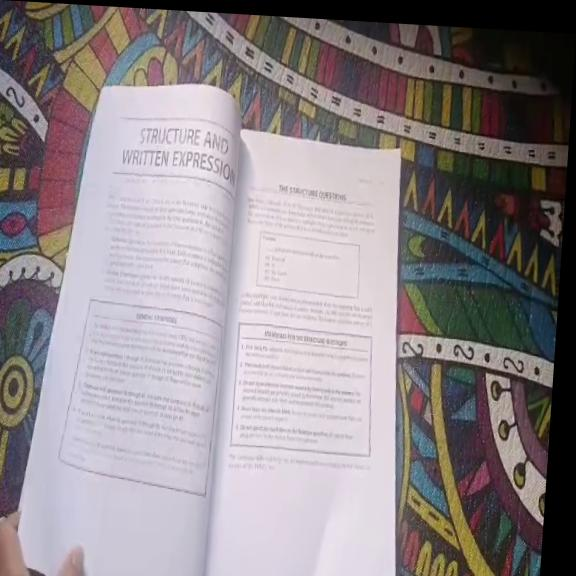Kertas: (188, 92, 443, 576), (20, 85, 240, 575), (206, 131, 400, 575)
